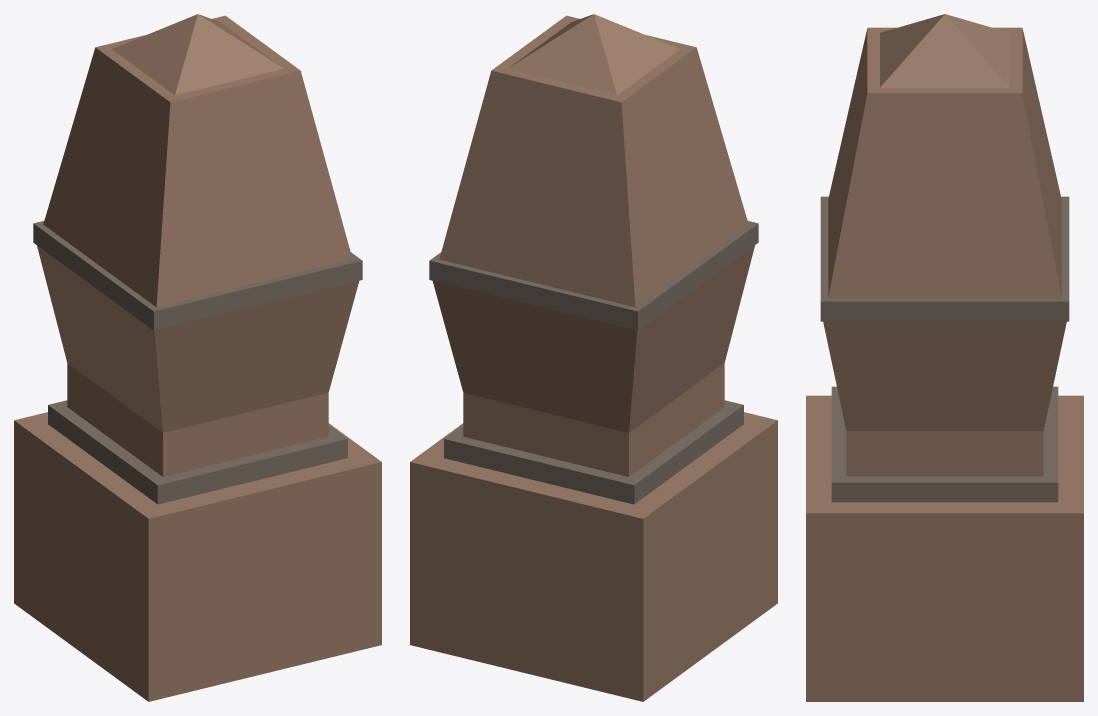
The model's file is dm_stationfinial.glb.
The picture shows the model from 3 angles, left to right: view 1: azimuth 30°, elevation 25°; view 2: azimuth 150°, elevation 25°; view 3: azimuth 270°, elevation 25°; orthographic projection. The views are drawn at different scales.
Parts seen in each view (by area): view 1: dm_stationfinial; view 2: dm_stationfinial; view 3: dm_stationfinial.
Boxes of the visible parts, x1,y1,x2,y2 form: dm_stationfinial: (14,14,381,701); dm_stationfinial: (410,14,777,701); dm_stationfinial: (806,14,1083,701).
Size of the model in its own units: 0.76 by 1.9 by 0.76.
